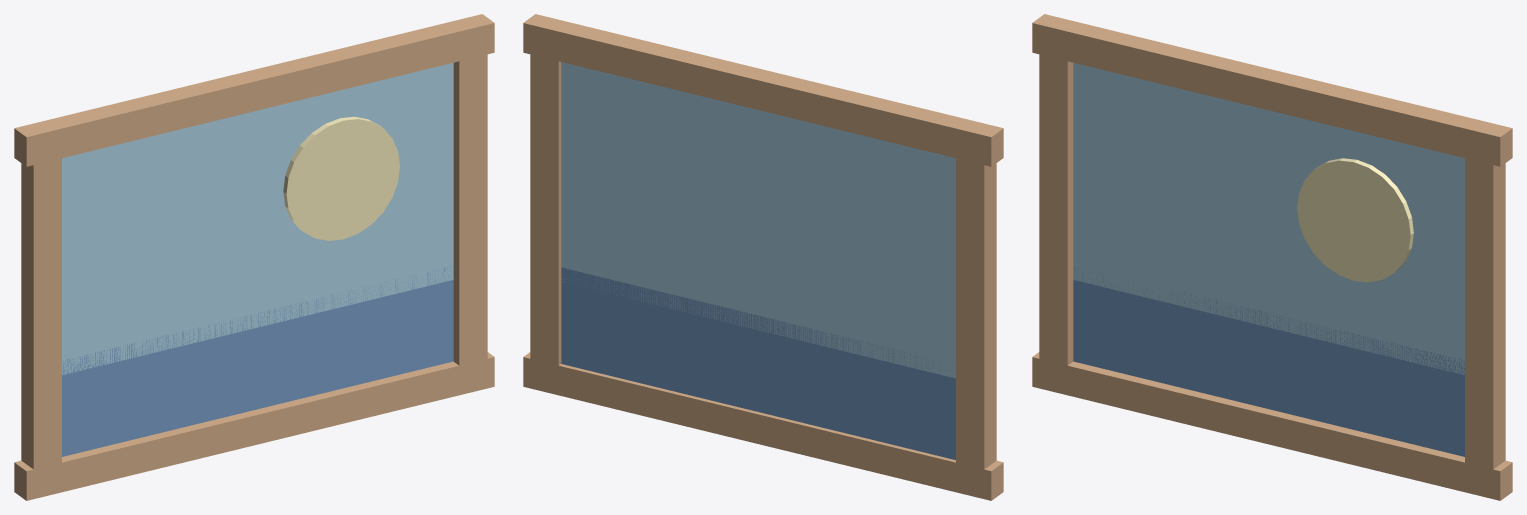
File: Prop_ArtSea.glb
The picture shows the model from 3 angles, left to right: view 1: azimuth 30°, elevation 25°; view 2: azimuth 150°, elevation 25°; view 3: azimuth 330°, elevation 25°; orthographic projection.
Visible parts, largest first — view 1: Prop_ArtSea; view 2: Prop_ArtSea; view 3: Prop_ArtSea.
Boxes of the visible parts, left/top/right/bottom form: Prop_ArtSea: left=14, top=14, right=494, bottom=500; Prop_ArtSea: left=523, top=14, right=1003, bottom=500; Prop_ArtSea: left=1032, top=14, right=1512, bottom=500.
Bounding box in the file's own units: 0.66 × 0.49 × 0.03.
